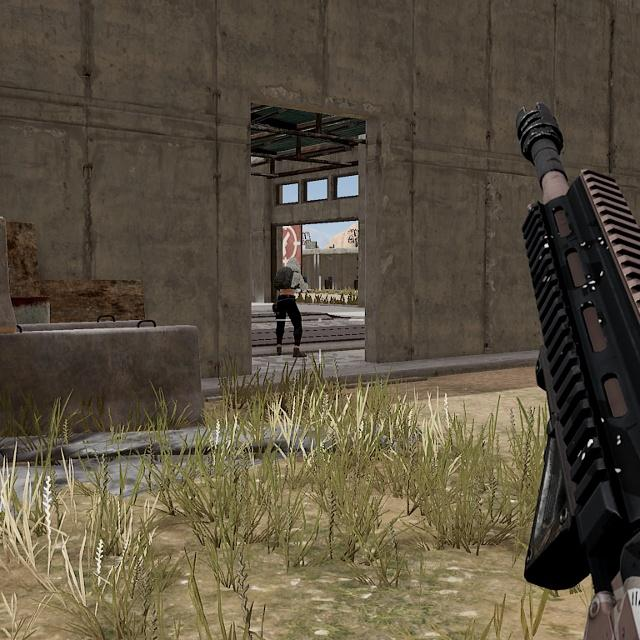head: (282, 254, 306, 273)
people: (270, 251, 315, 362)
